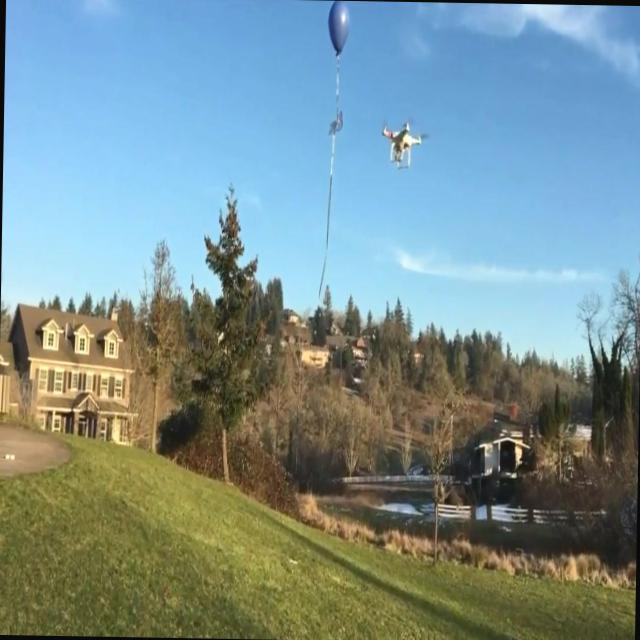drone: (379, 117, 427, 174)
